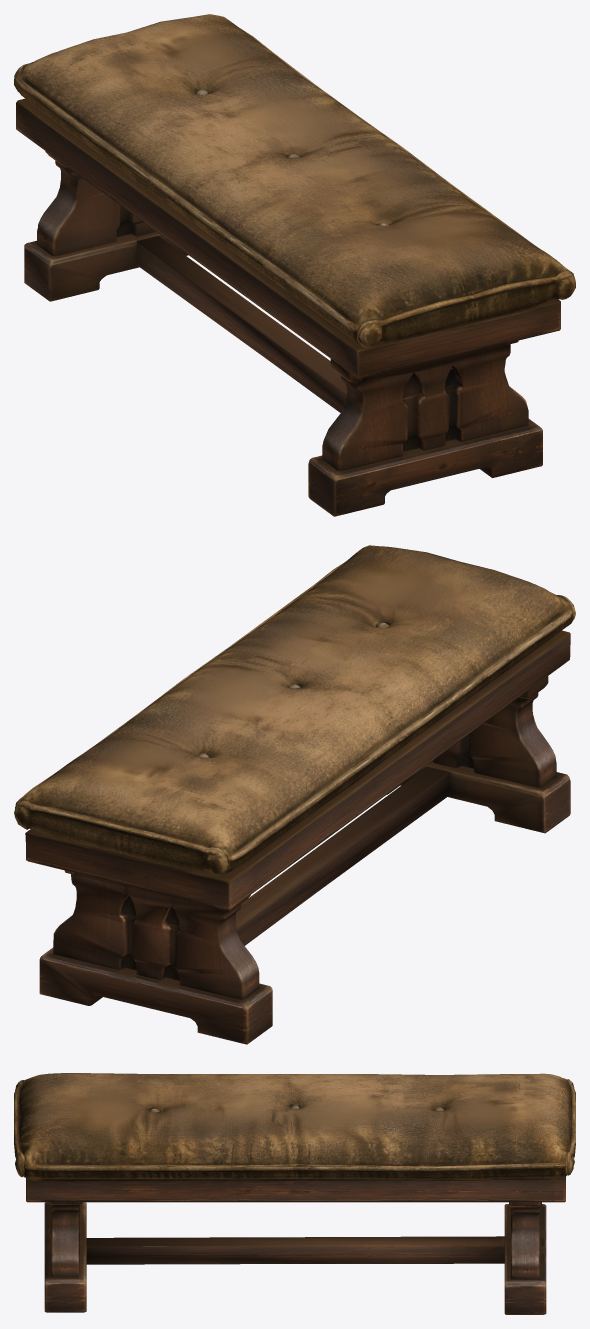
The picture shows the model from 3 angles, top to bottom: view 1: azimuth 30°, elevation 25°; view 2: azimuth 150°, elevation 25°; view 3: azimuth 270°, elevation 25°; orthographic projection. The views are drawn at different scales.
Parts seen in each view (by area): view 1: tripo_node_d71a0cdb-525d-4e94-ad7a-bbf7b5ff2cbf; view 2: tripo_node_d71a0cdb-525d-4e94-ad7a-bbf7b5ff2cbf; view 3: tripo_node_d71a0cdb-525d-4e94-ad7a-bbf7b5ff2cbf.
Boxes of the visible parts, x1,y1,x2,y2 form: tripo_node_d71a0cdb-525d-4e94-ad7a-bbf7b5ff2cbf: [14, 14, 575, 516]; tripo_node_d71a0cdb-525d-4e94-ad7a-bbf7b5ff2cbf: [14, 545, 575, 1044]; tripo_node_d71a0cdb-525d-4e94-ad7a-bbf7b5ff2cbf: [14, 1073, 575, 1314].
Bounding box in the file's own units: 0.373 × 0.3496 × 0.998.
Materials: 1 (1 with a texture image).
